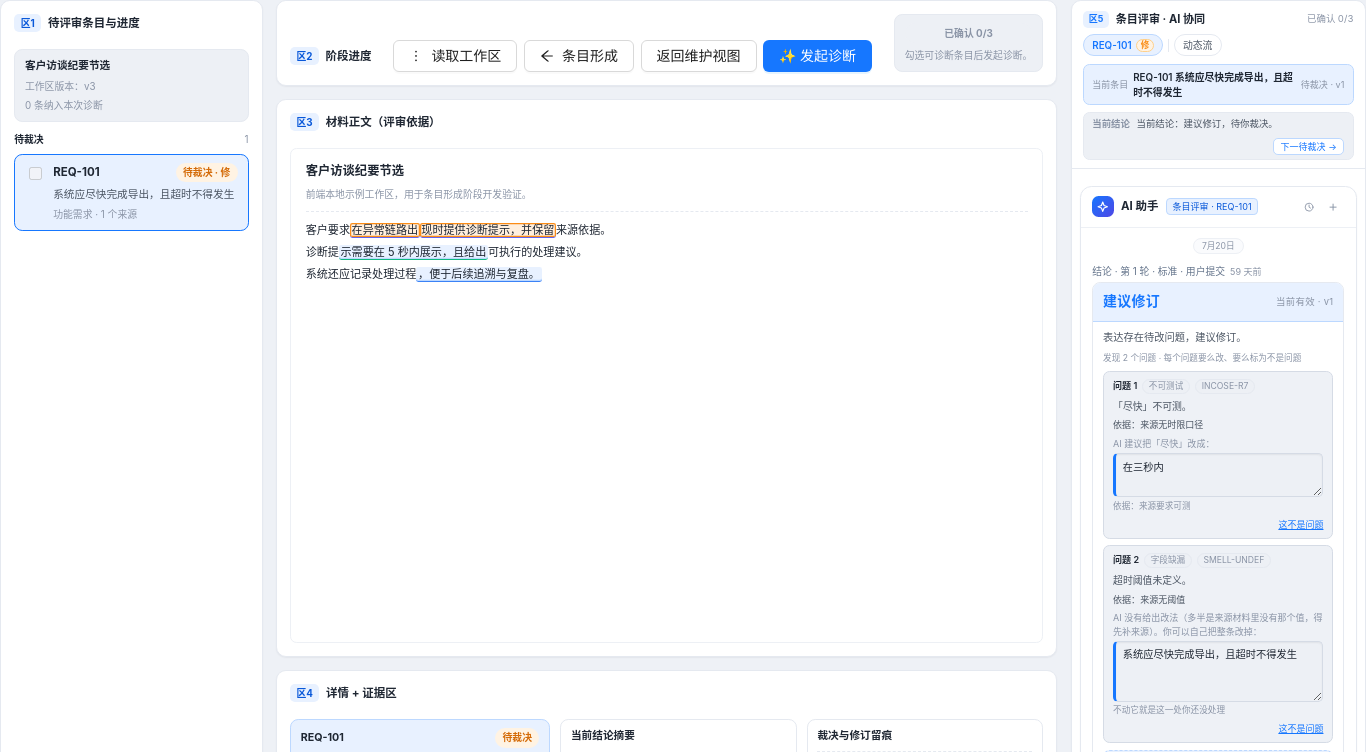
Test: AI 没给改法的问题：整条重写 › 「取消整条重写」把局部改法放回来
Expected: the text "表达存在待改问题，建议修订。" is shown, [1103,331,1247,343]
Replace the text in the text box with class "rv5-edit__box" below "来源无阈值" with "改成别的": (1218, 671) [1113,640,1324,702]
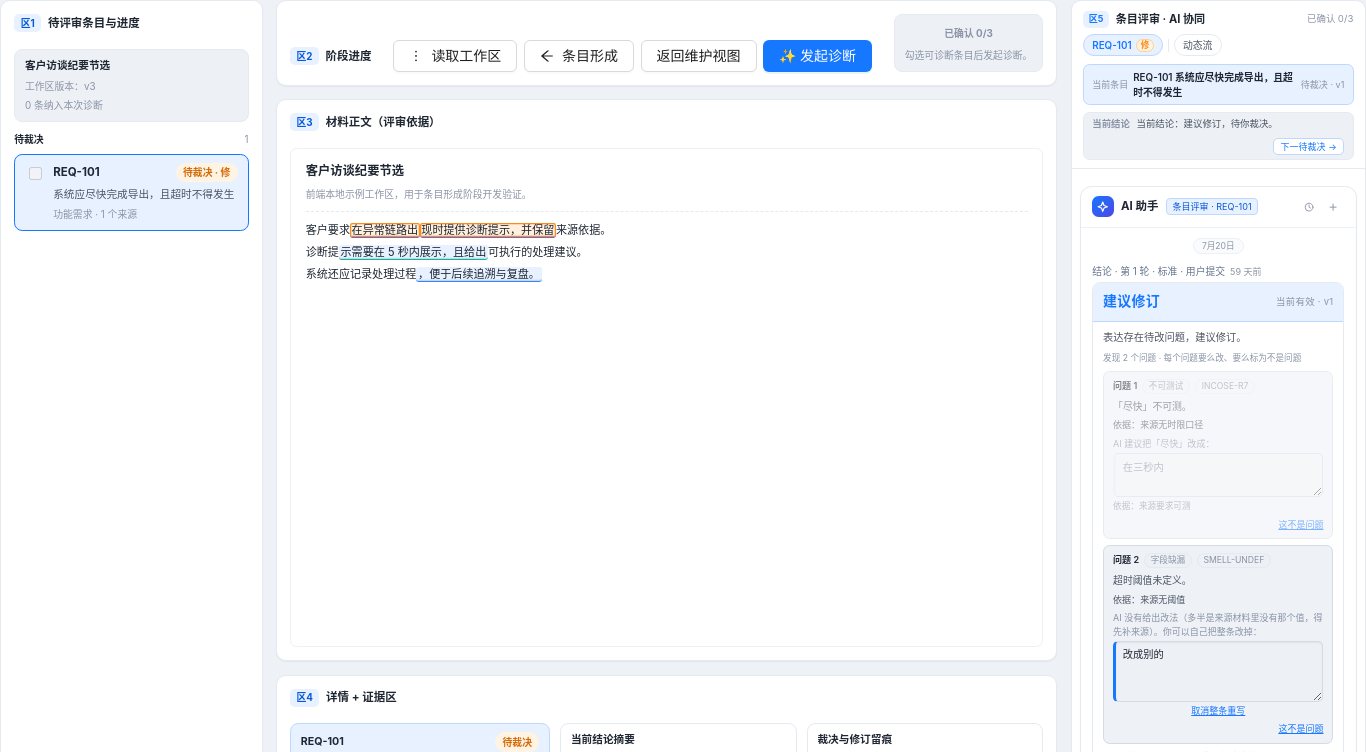
Result: the text box with class "rv5-edit__box" below "AI 建议把「" has attribute readonly at [1113,453,1324,497]
Click the button "取消整条重写": (1218, 711) [1113,704,1324,718]
(page scrolled)
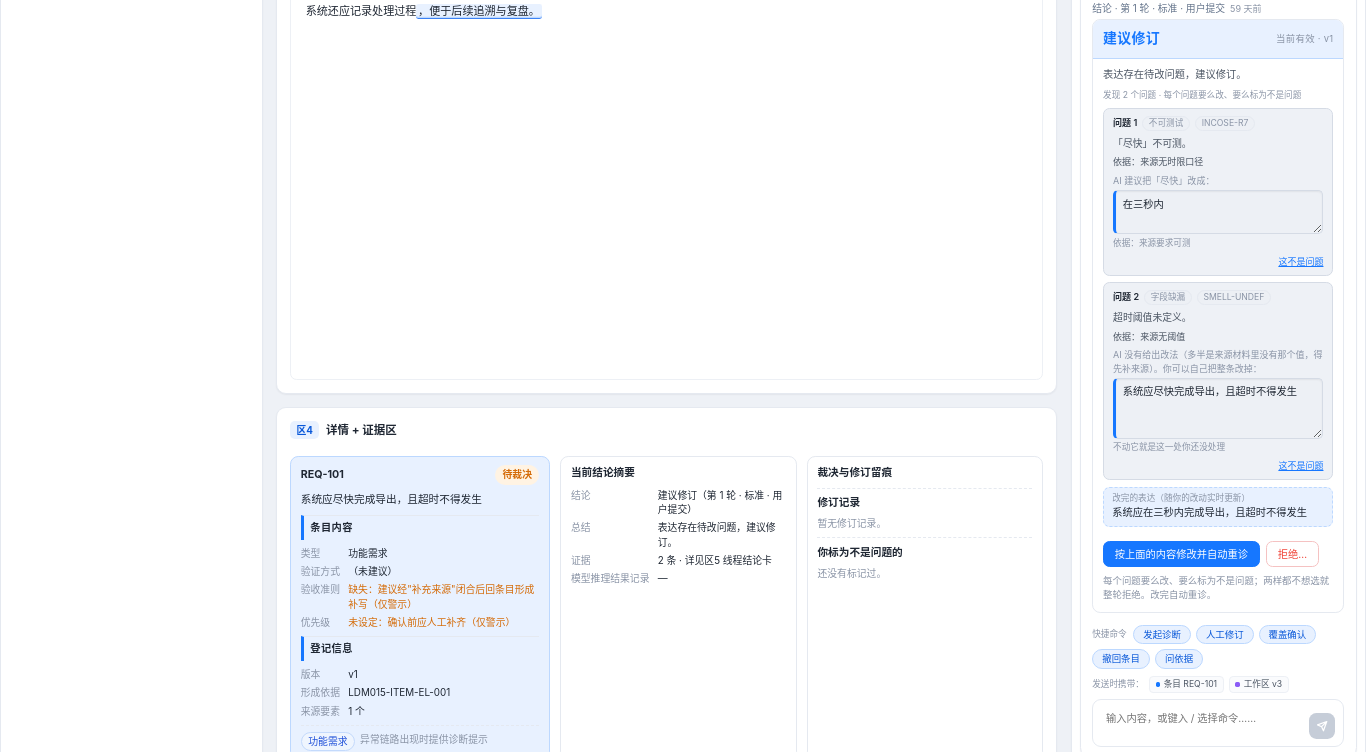
Result: the button "按上面的内容修改并自动重诊" is shown at [1103,542,1260,567]
